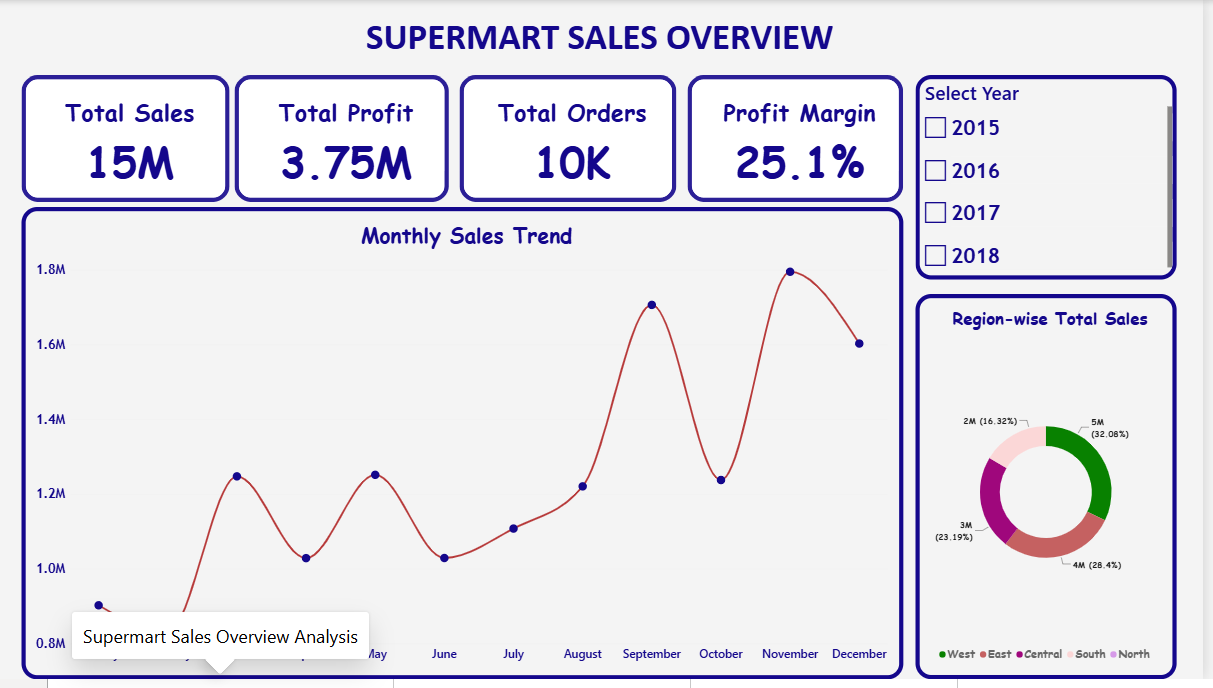

This screenshot's page, from the dashboard's own definition file:
{"tool":"powerbi","page":{"name":"Supermart Sales Overview Analysis","canvas":[1920,1080],"ordinal":0},"visuals":[{"type":"cardVisual","fields":{"Data":["supermart_grocery_data_cleaned.Total Sales"]},"box":[40.6,119.3,331.6,202.8],"z":0},{"type":"cardVisual","fields":{"Data":["supermart_grocery_data_cleaned.Total Profit"]},"box":[379.4,119.3,341.2,202.8],"z":1000},{"type":"cardVisual","fields":{"Data":["supermart_grocery_data_cleaned.Total Orders"]},"box":[737.2,119.3,346,202.8],"z":2000},{"type":"cardVisual","fields":{"Data":["supermart_grocery_data_cleaned.Profit Margin"]},"box":[1099.9,119.3,343.6,202.8],"z":3000},{"type":"textbox","box":[19.1,408,477.2,76.3],"z":4000},{"type":"textbox","box":[19.1,21.5,1882.5,88.3],"z":5000},{"type":"lineChart","title":"Monthly Sales Trend","fields":{"Category":["supermart_grocery_data_cleaned.Order Date.Variation.Date Hierarchy.Month"],"Y":["Sum(supermart_grocery_data_cleaned.Sales)"]},"box":[40.6,329.3,1402.9,751.6],"z":6000},{"type":"donutChart","title":"Region-wise Total Sales","fields":{"Category":["supermart_grocery_data_cleaned.Region"],"Y":["supermart_grocery_data_cleaned.Total Sales"]},"box":[1462.5,467.5,415,612.5],"z":8000},{"type":"slicer","fields":{"Values":["supermart_grocery_data_cleaned.Order Date.Variation.Date Hierarchy.Year"]},"box":[1462.5,120,415,325],"z":9000}]}

Visuals, with their boxes in screenshot pixels (x1, y1, x2, y2), scaled from the page's 1920x1080 canvas onto the 1213x688 screenshot:
cardVisual - supermart_grocery_data_cleaned.Total Sales: 26,76,235,205
cardVisual - supermart_grocery_data_cleaned.Total Profit: 240,76,455,205
cardVisual - supermart_grocery_data_cleaned.Total Orders: 466,76,684,205
cardVisual - supermart_grocery_data_cleaned.Profit Margin: 695,76,912,205
textbox: 12,260,314,309
textbox: 12,14,1201,70
"Monthly Sales Trend" lineChart: 26,210,912,687
"Region-wise Total Sales" donutChart: 924,298,1186,687
slicer - supermart_grocery_data_cleaned.Order Date.Variation.Date Hierarchy.Year: 924,76,1186,283
